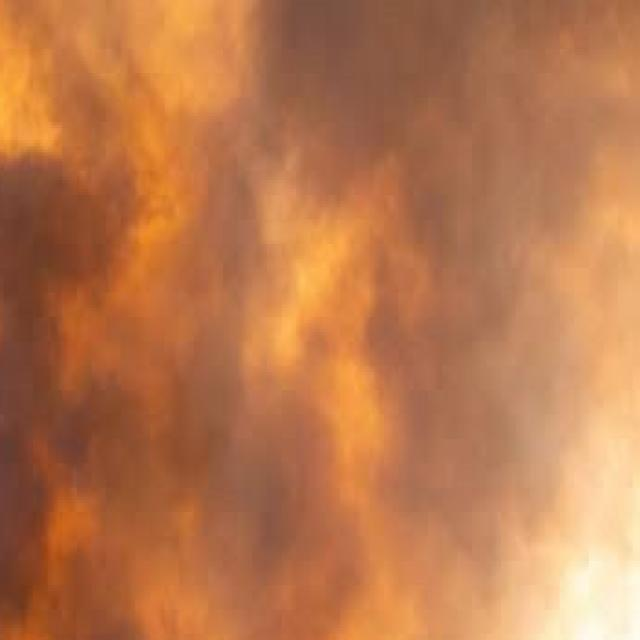Fire: (6, 134, 417, 640)
